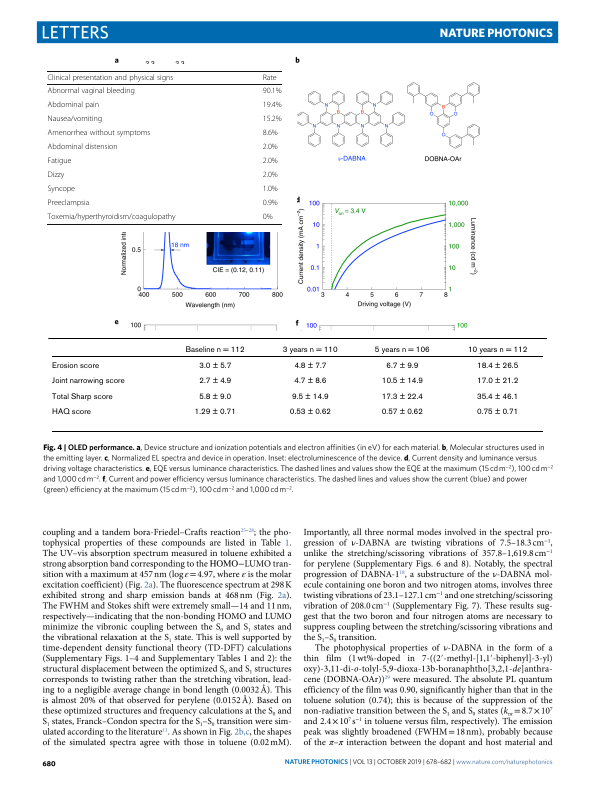borderless: (47, 336, 543, 431), (46, 69, 282, 224)
cell: (46, 212, 176, 222), (47, 73, 174, 82), (47, 128, 151, 138), (47, 86, 136, 96), (50, 377, 125, 387), (47, 142, 119, 152), (50, 392, 113, 402), (466, 345, 528, 355), (184, 345, 245, 355), (281, 345, 338, 355), (373, 345, 430, 355), (47, 114, 103, 124), (47, 100, 100, 110), (50, 361, 99, 371), (475, 361, 519, 371), (475, 377, 519, 387), (475, 392, 519, 402), (475, 408, 519, 418), (380, 377, 423, 387), (380, 392, 423, 402), (193, 408, 236, 418), (288, 408, 331, 418), (380, 408, 423, 418), (47, 198, 90, 208), (50, 408, 91, 418), (290, 392, 329, 402), (198, 361, 232, 371), (293, 361, 327, 371), (385, 361, 419, 371), (198, 377, 232, 387), (293, 377, 327, 387), (198, 392, 232, 402), (47, 184, 76, 194), (47, 156, 72, 166), (262, 86, 282, 96), (262, 100, 282, 110), (262, 114, 282, 124), (47, 170, 65, 180), (262, 128, 279, 138), (262, 142, 279, 152), (262, 156, 279, 166), (262, 170, 279, 180), (262, 184, 279, 194), (262, 198, 279, 208), (262, 73, 278, 82), (262, 212, 273, 222)
